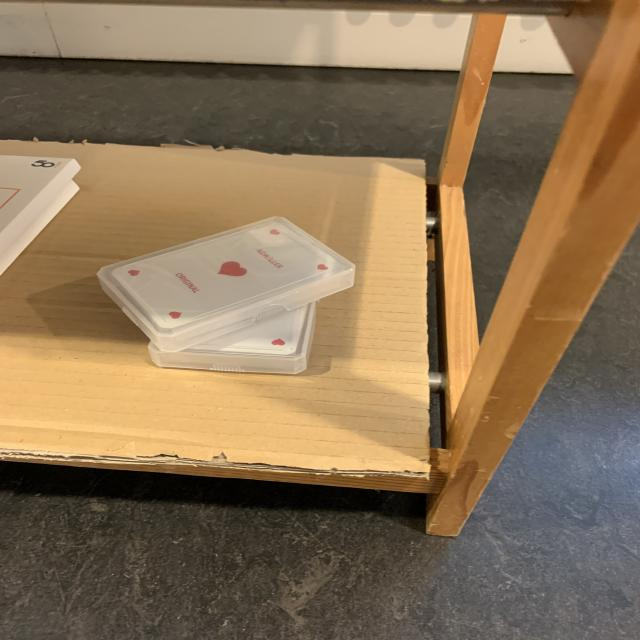Jasskarte: (97, 217, 355, 352), (148, 302, 316, 375)
